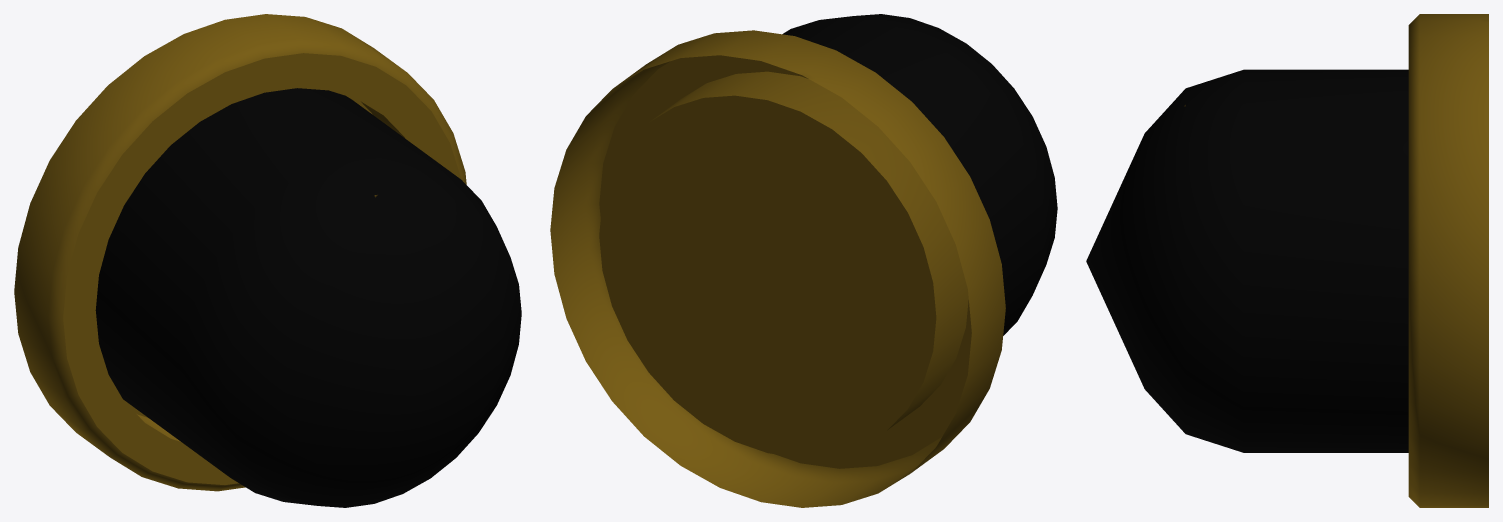
The model's file is simple_lamp.fbx.
3 views of the same model, side by side, from view 1: azimuth 30°, elevation 25°; view 2: azimuth 150°, elevation 25°; view 3: azimuth 270°, elevation 25° (orthographic).
Parts seen in each view (by area): view 1: SimpleLamp; view 2: SimpleLamp; view 3: SimpleLamp.
Part boxes in pixels (x1,y1,x2,y2): SimpleLamp: (14,14,521,507); SimpleLamp: (550,14,1057,507); SimpleLamp: (1086,14,1488,507).
Size of the model in its own units: 9.87 by 9.87 by 8.04.
